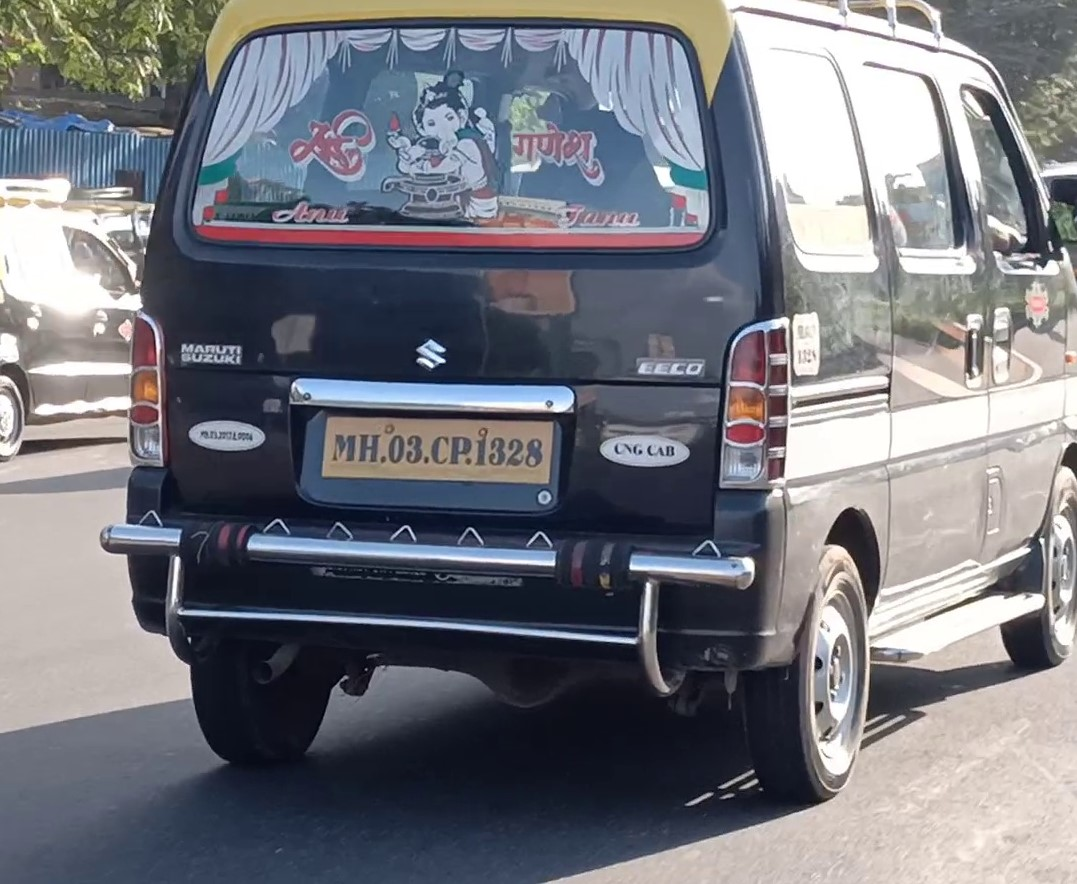MH03CP1328: (321, 413, 552, 484)
